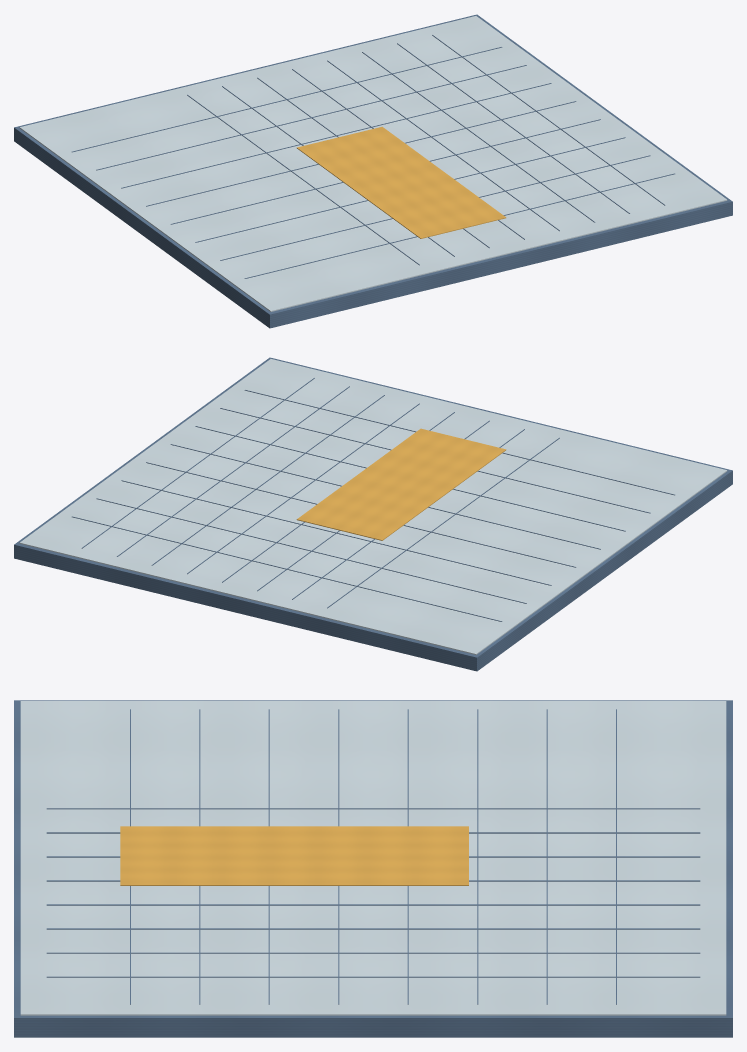
Rendered from atlas100-s051-a07.lod1.glb.
The picture shows the model from 3 angles, top to bottom: view 1: azimuth 30°, elevation 25°; view 2: azimuth 150°, elevation 25°; view 3: azimuth 270°, elevation 25°; orthographic projection. The views are drawn at different scales.
Parts seen in each view (by area): view 1: atlas100-s051-a07:part-001, atlas100-s051-a07:part-000, atlas100-s051-a07:part-021, atlas100-s051-a07:part-013, atlas100-s051-a07:part-014, atlas100-s051-a07:part-015, atlas100-s051-a07:part-020, atlas100-s051-a07:part-019, atlas100-s051-a07:part-018, atlas100-s051-a07:part-016, atlas100-s051-a07:part-017; view 2: atlas100-s051-a07:part-001, atlas100-s051-a07:part-000, atlas100-s051-a07:part-021, atlas100-s051-a07:part-013, atlas100-s051-a07:part-015, atlas100-s051-a07:part-014, atlas100-s051-a07:part-020, atlas100-s051-a07:part-016, atlas100-s051-a07:part-017, atlas100-s051-a07:part-018, atlas100-s051-a07:part-019; view 3: atlas100-s051-a07:part-001, atlas100-s051-a07:part-000, atlas100-s051-a07:part-021, atlas100-s051-a07:part-010, atlas100-s051-a07:part-009, atlas100-s051-a07:part-012, atlas100-s051-a07:part-005, atlas100-s051-a07:part-011, atlas100-s051-a07:part-006, atlas100-s051-a07:part-007, atlas100-s051-a07:part-008, atlas100-s051-a07:part-014 (+1 smaller).
Boxes of the visible parts, x1,y1,x2,y2 form: atlas100-s051-a07:part-001: [19, 16, 727, 311]; atlas100-s051-a07:part-000: [14, 14, 732, 328]; atlas100-s051-a07:part-021: [297, 126, 506, 238]; atlas100-s051-a07:part-013: [72, 47, 502, 152]; atlas100-s051-a07:part-014: [96, 65, 526, 170]; atlas100-s051-a07:part-015: [121, 83, 551, 188]; atlas100-s051-a07:part-020: [244, 173, 674, 278]; atlas100-s051-a07:part-019: [220, 155, 650, 260]; atlas100-s051-a07:part-018: [195, 137, 625, 242]; atlas100-s051-a07:part-016: [146, 101, 576, 206]; atlas100-s051-a07:part-017: [170, 119, 600, 224]; atlas100-s051-a07:part-001: [19, 359, 727, 654]; atlas100-s051-a07:part-000: [14, 357, 732, 671]; atlas100-s051-a07:part-021: [296, 428, 506, 540]; atlas100-s051-a07:part-013: [72, 516, 502, 621]; atlas100-s051-a07:part-015: [121, 480, 551, 585]; atlas100-s051-a07:part-014: [96, 498, 526, 603]; atlas100-s051-a07:part-020: [244, 390, 674, 495]; atlas100-s051-a07:part-016: [146, 462, 576, 567]; atlas100-s051-a07:part-017: [170, 444, 600, 549]; atlas100-s051-a07:part-018: [195, 426, 625, 531]; atlas100-s051-a07:part-019: [220, 408, 650, 513]; atlas100-s051-a07:part-001: [20, 701, 726, 1015]; atlas100-s051-a07:part-000: [14, 700, 732, 1037]; atlas100-s051-a07:part-021: [120, 826, 468, 885]; atlas100-s051-a07:part-010: [46, 928, 700, 929]; atlas100-s051-a07:part-009: [46, 904, 700, 905]; atlas100-s051-a07:part-012: [46, 976, 700, 977]; atlas100-s051-a07:part-005: [46, 808, 700, 809]; atlas100-s051-a07:part-011: [46, 952, 700, 953]; atlas100-s051-a07:part-006: [46, 832, 700, 833]; atlas100-s051-a07:part-007: [46, 856, 700, 857]; atlas100-s051-a07:part-008: [46, 880, 700, 881]; atlas100-s051-a07:part-014: [546, 709, 547, 1004].
Bounding box in the file's own units: 11.9 × 0.404 × 11.39.
Materials: 3 (3 with a texture image).
